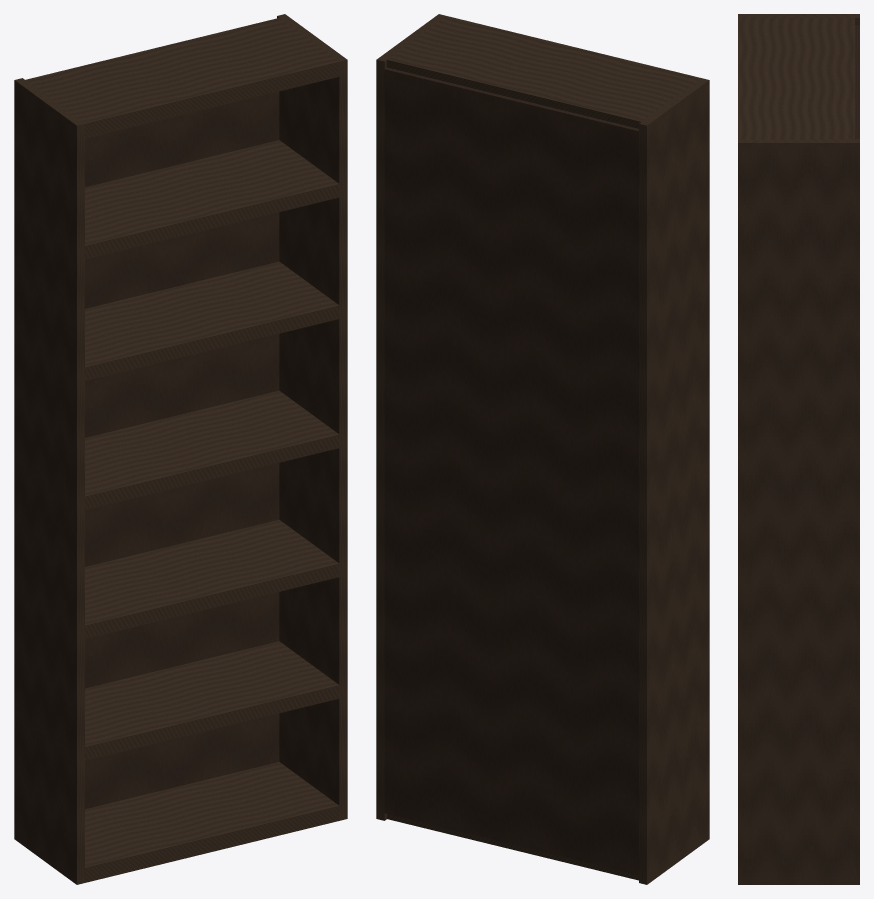
The picture shows the model from 3 angles, left to right: view 1: azimuth 30°, elevation 25°; view 2: azimuth 150°, elevation 25°; view 3: azimuth 270°, elevation 25°; orthographic projection. The views are drawn at different scales.
Parts seen in each view (by area): view 1: 3 back_panel, 1 left_side_panel, 2 right_side_panel, 5 top_panel, 4 bottom_panel, 10 shelf_5, 6 shelf_1, 7 shelf_2, 8 shelf_3, 9 shelf_4; view 2: 3 back_panel, 1 left_side_panel, 5 top_panel, 2 right_side_panel, 4 bottom_panel; view 3: 2 right_side_panel, 5 top_panel, 3 back_panel, 1 left_side_panel.
Part boxes in pixels (box(x1,y1,x2,y2)): 3 back_panel: box(85, 91, 279, 809); 1 left_side_panel: box(14, 78, 84, 884); 2 right_side_panel: box(277, 14, 347, 820); 5 top_panel: box(25, 18, 339, 138); 4 bottom_panel: box(85, 762, 339, 882); 10 shelf_5: box(85, 140, 339, 259); 6 shelf_1: box(85, 641, 339, 760); 7 shelf_2: box(85, 519, 339, 639); 8 shelf_3: box(85, 390, 339, 509); 9 shelf_4: box(85, 261, 339, 380); 3 back_panel: box(384, 67, 638, 875); 1 left_side_panel: box(639, 78, 709, 884); 5 top_panel: box(387, 16, 700, 128); 2 right_side_panel: box(376, 14, 446, 820); 4 bottom_panel: box(387, 814, 638, 880); 2 right_side_panel: box(738, 139, 859, 884); 5 top_panel: box(738, 18, 854, 139); 3 back_panel: box(855, 25, 859, 139); 1 left_side_panel: box(738, 14, 859, 25).
Bounding box in the file's own units: 0.373 × 1 × 0.149.
2 materials, 2 textured.
